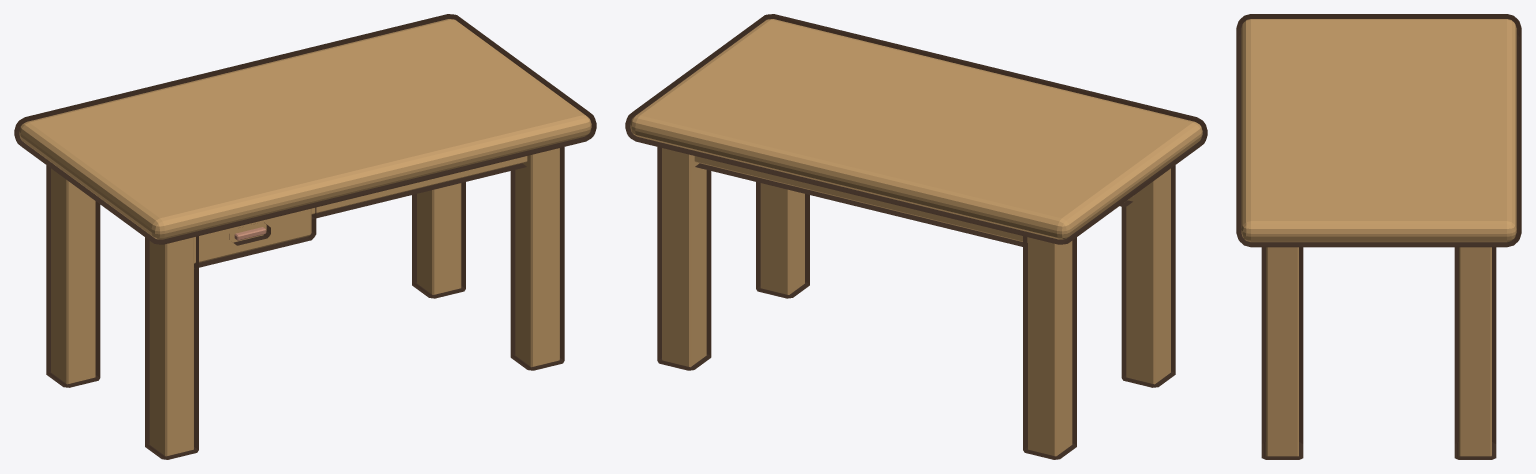
File: atelier-desk.glb
3 views of the same model, side by side, from view 1: azimuth 30°, elevation 25°; view 2: azimuth 150°, elevation 25°; view 3: azimuth 270°, elevation 25° (orthographic). The views are drawn at different scales.
Visible parts, largest first — view 1: atelier-desk, atelier-desk-outline; view 2: atelier-desk, atelier-desk-outline; view 3: atelier-desk, atelier-desk-outline.
Boxes of the visible parts, x1,y1,x2,y2 form: atelier-desk: (19, 19, 591, 456); atelier-desk-outline: (14, 14, 596, 459); atelier-desk: (630, 19, 1202, 456); atelier-desk-outline: (625, 14, 1207, 459); atelier-desk: (1241, 19, 1516, 456); atelier-desk-outline: (1236, 14, 1521, 459).
Size of the model in its own units: 1.84 by 0.9975 by 1.04.
